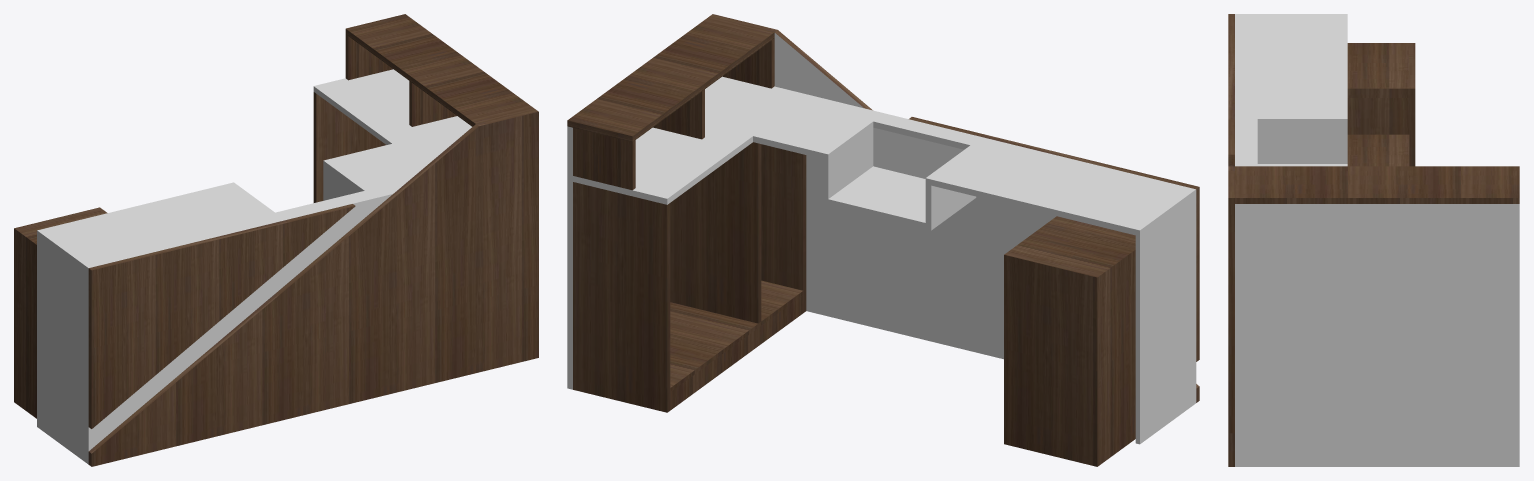
File: reception_desk.glb
3 renders of one model, left to right at view 1: azimuth 30°, elevation 25°; view 2: azimuth 150°, elevation 25°; view 3: azimuth 270°, elevation 25°, orthographic. The views are drawn at different scales.
Parts seen in each view (by area): view 1: Mesh14_WVB_5310_White_Ash_0, Mesh1_white_0, Mesh6_white_0, Mesh8_WVB_5310_White_Ash_0, Mesh9_white_0, Mesh13_WVB_5310_White_Ash_0, Mesh11_WVB_5310_White_Ash_0, Mesh12_WVB_5310_White_Ash_0, Mesh7_WVB_5310_White_Ash_0, Mesh8_WVB_5310_White_Ash1_0; view 2: Mesh1_white_0, Mesh13_WVB_5310_White_Ash_0, Mesh9_white_0, Mesh11_WVB_5310_White_Ash_0, Mesh4_WVB_5310_White_Ash_0, Mesh6_white_0, Mesh8_WVB_5310_White_Ash_0, Mesh2_WVB_5310_White_Ash_0, Mesh5_WVB_5310_White_Ash_0, Mesh12_WVB_5310_White_Ash_0, Mesh1_FrontColor_0, Mesh14_WVB_5310_White_Ash_0 (+6 smaller); view 3: Mesh14_white_0, Mesh1_white_0, Mesh8_WVB_5310_White_Ash_0, Mesh13_WVB_5310_White_Ash_0, Mesh14_WVB_5310_White_Ash_0.
Part boxes in pixels (x1,y1,x2,y2): Mesh14_WVB_5310_White_Ash_0: [88, 109, 538, 466]; Mesh1_white_0: [37, 69, 471, 273]; Mesh6_white_0: [37, 236, 92, 464]; Mesh8_WVB_5310_White_Ash_0: [346, 14, 535, 123]; Mesh9_white_0: [92, 201, 383, 447]; Mesh13_WVB_5310_White_Ash_0: [14, 207, 107, 418]; Mesh11_WVB_5310_White_Ash_0: [313, 92, 385, 202]; Mesh12_WVB_5310_White_Ash_0: [345, 34, 392, 80]; Mesh7_WVB_5310_White_Ash_0: [409, 81, 456, 126]; Mesh8_WVB_5310_White_Ash1_0: [345, 29, 475, 126]; Mesh1_white_0: [573, 76, 1196, 236]; Mesh13_WVB_5310_White_Ash_0: [1004, 216, 1135, 466]; Mesh9_white_0: [806, 155, 1056, 359]; Mesh11_WVB_5310_White_Ash_0: [573, 182, 670, 412]; Mesh4_WVB_5310_White_Ash_0: [670, 142, 761, 323]; Mesh6_white_0: [1135, 195, 1196, 444]; Mesh8_WVB_5310_White_Ash_0: [567, 16, 773, 142]; Mesh2_WVB_5310_White_Ash_0: [761, 144, 806, 312]; Mesh5_WVB_5310_White_Ash_0: [670, 280, 803, 391]; Mesh12_WVB_5310_White_Ash_0: [573, 128, 635, 190]; Mesh1_FrontColor_0: [873, 127, 963, 178]; Mesh14_WVB_5310_White_Ash_0: [709, 14, 1199, 402]; Mesh14_white_0: [1235, 204, 1519, 466]; Mesh1_white_0: [1235, 14, 1347, 166]; Mesh8_WVB_5310_White_Ash_0: [1235, 166, 1519, 203]; Mesh13_WVB_5310_White_Ash_0: [1347, 43, 1415, 166]; Mesh14_WVB_5310_White_Ash_0: [1228, 14, 1234, 466].
Size of the model in its own units: 0.025 by 0.0132 by 0.0129.
Materials: 4 (2 with a texture image).
